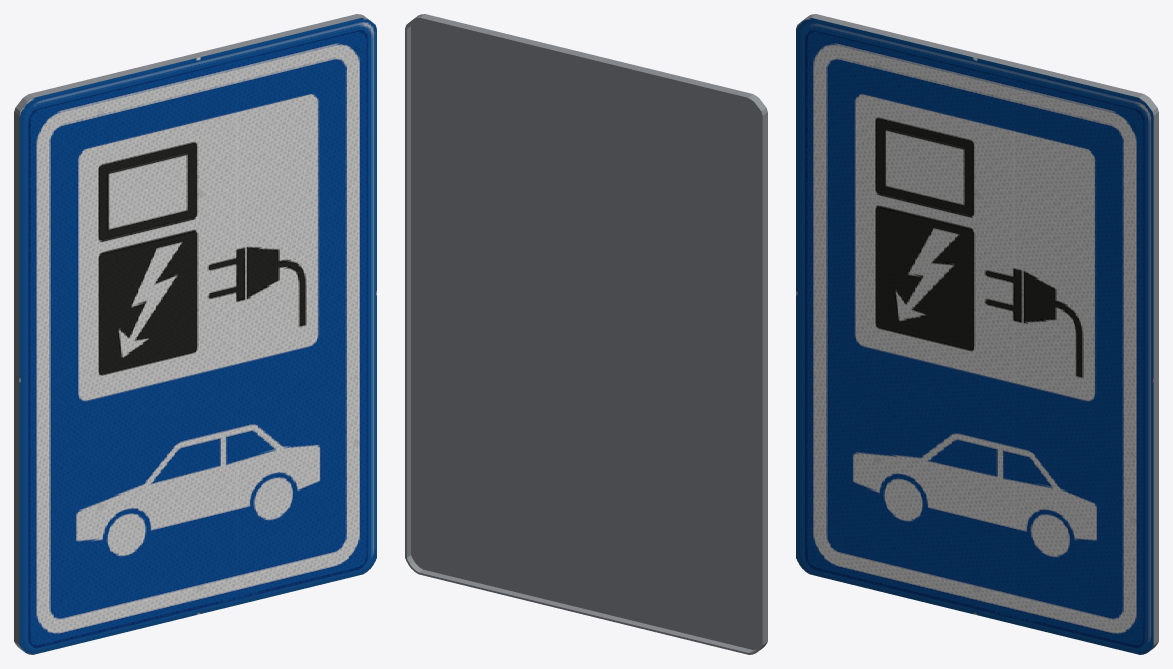
The picture shows the model from 3 angles, left to right: view 1: azimuth 30°, elevation 25°; view 2: azimuth 150°, elevation 25°; view 3: azimuth 330°, elevation 25°; orthographic projection.
Parts seen in each view (by area): view 1: cat_059965e8eb9e9b1b; view 2: cat_059965e8eb9e9b1b; view 3: cat_059965e8eb9e9b1b.
Part boxes in pixels (<box>): cat_059965e8eb9e9b1b: <box>14,14,376,654</box>; cat_059965e8eb9e9b1b: <box>405,14,767,654</box>; cat_059965e8eb9e9b1b: <box>796,14,1158,654</box>.
Bounding box in the file's own units: 0.6 × 0.015 × 0.8927.
2 materials, 1 textured.
